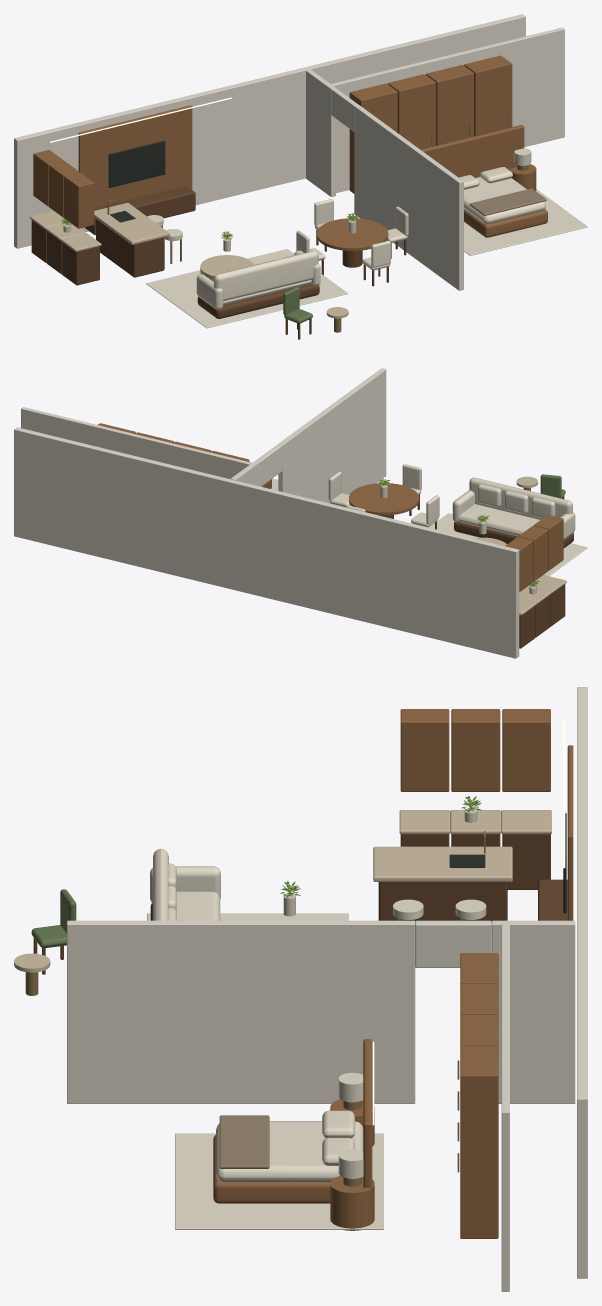
The model's file is apartment.glb.
3 renders of one model, top to bottom at view 1: azimuth 30°, elevation 25°; view 2: azimuth 150°, elevation 25°; view 3: azimuth 270°, elevation 25°, orthographic. The views are drawn at different scales.
Visible parts, largest first — view 1: EME_apartment; view 2: EME_apartment; view 3: EME_apartment.
Part boxes in pixels (x1,y1,x2,y2): EME_apartment: (14, 14, 587, 339); EME_apartment: (14, 368, 587, 658); EME_apartment: (14, 687, 587, 1291).
Bounding box in the file's own units: 14.45 × 2.85 × 8.24.
